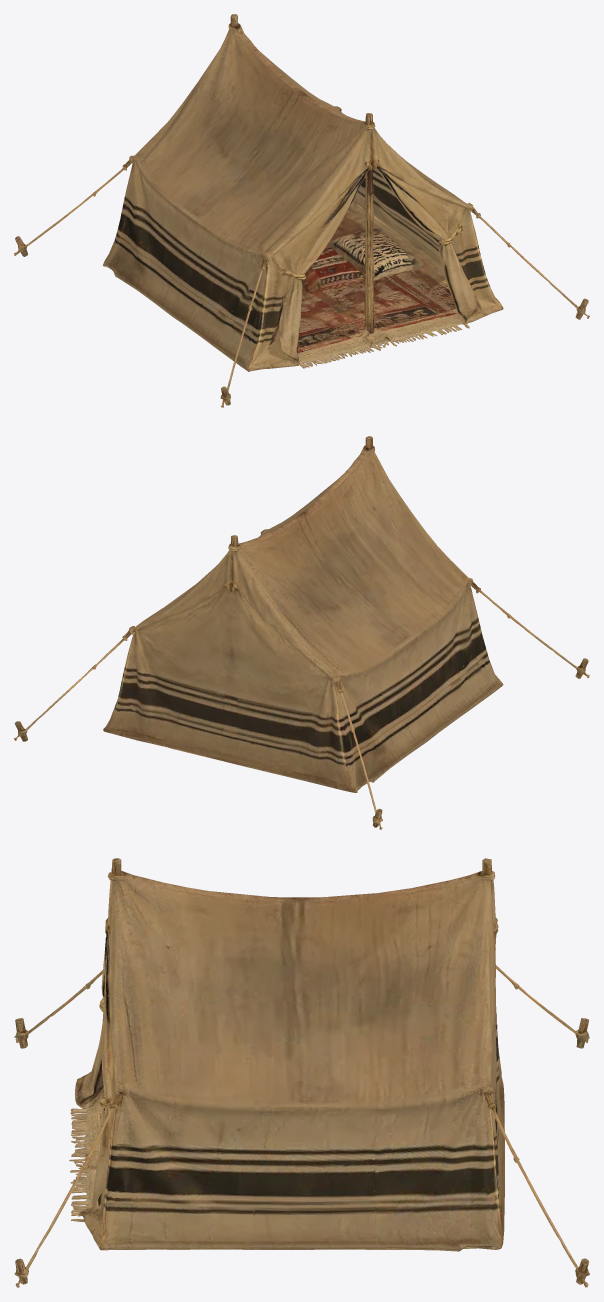
The model's file is small_tent.glb.
3 renders of one model, top to bottom at view 1: azimuth 30°, elevation 25°; view 2: azimuth 150°, elevation 25°; view 3: azimuth 270°, elevation 25°, orthographic. The views are drawn at different scales.
Parts seen in each view (by area): view 1: Mesh_0; view 2: Mesh_0; view 3: Mesh_0.
Boxes of the visible parts, x1=… form: Mesh_0: x1=14, y1=14, x2=589, y2=407; Mesh_0: x1=14, y1=436, x2=589, y2=829; Mesh_0: x1=14, y1=858, x2=589, y2=1287.
Bounding box in the file's own units: 0.5178 × 0.2997 × 0.5113.
1 material, 1 textured.
